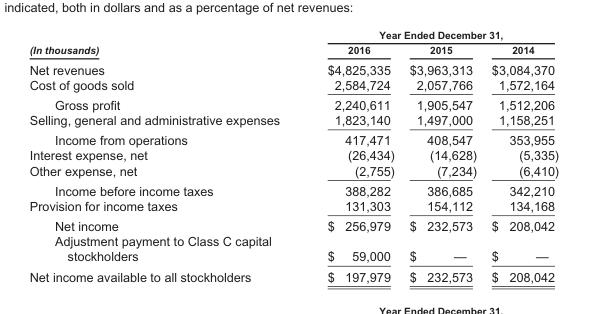table: (28, 28, 558, 283)
table column: (28, 28, 302, 283), (302, 28, 401, 283), (401, 28, 483, 283), (483, 28, 558, 283)
table column header: (28, 28, 558, 58)
table row: (28, 233, 558, 266), (28, 58, 558, 76), (28, 76, 558, 94), (28, 94, 558, 112), (28, 129, 558, 147), (28, 162, 558, 180), (28, 197, 558, 215), (28, 215, 558, 233), (28, 112, 558, 129), (28, 180, 558, 197), (28, 266, 558, 283), (28, 42, 558, 58), (28, 147, 558, 162), (28, 28, 558, 42)
table spanning cell: (28, 28, 302, 58), (302, 28, 558, 42)
